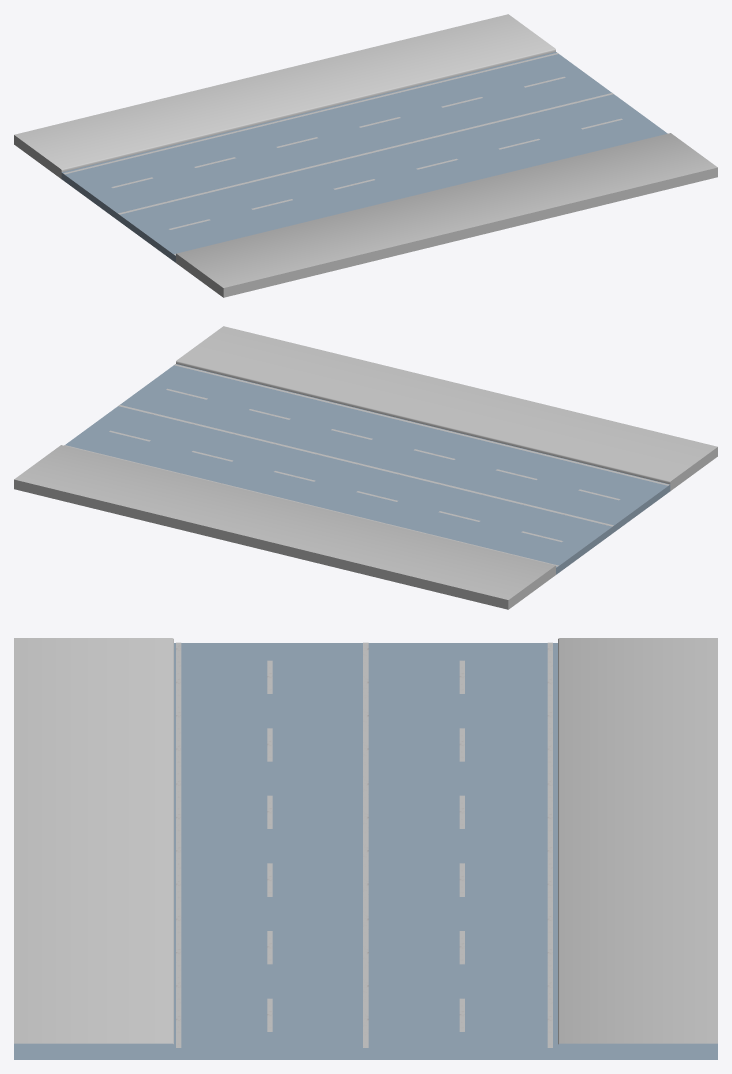
Rendered from Road_008.fbx.
3 renders of one model, top to bottom at view 1: azimuth 30°, elevation 25°; view 2: azimuth 150°, elevation 25°; view 3: azimuth 270°, elevation 25°, orthographic. The views are drawn at different scales.
Parts seen in each view (by area): view 1: Road_008; view 2: Road_008; view 3: Road_008.
Part boxes in pixels (x1,y1,x2,y2): Road_008: [14, 14, 717, 297]; Road_008: [14, 326, 717, 609]; Road_008: [14, 638, 717, 1059].
Size of the model in its own units: 3000 by 56.17 by 2202.
